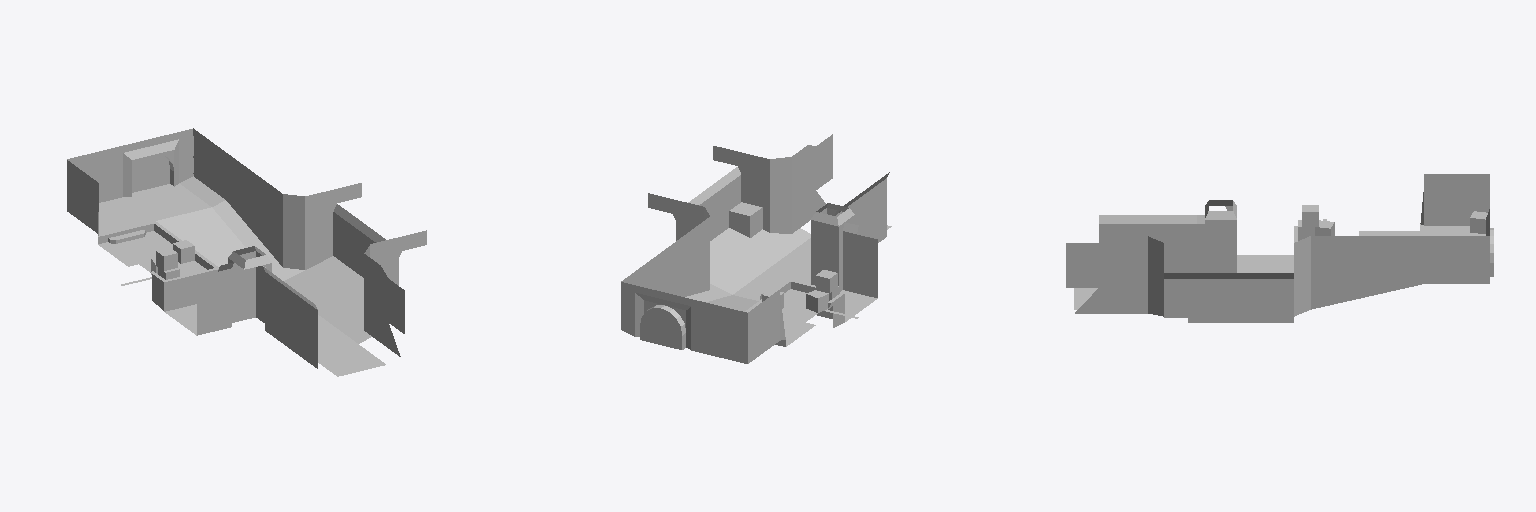
Rendered from de_dust2.obj.
3 renders of one model, left to right at view 1: azimuth 30°, elevation 25°; view 2: azimuth 150°, elevation 25°; view 3: azimuth 270°, elevation 25°, orthographic.
Visible parts, largest first — view 1: de_dust2; view 2: de_dust2; view 3: de_dust2.
Boxes of the visible parts, box(x1,y1,x2,y2) form: de_dust2: box(67, 128, 426, 376); de_dust2: box(621, 134, 891, 363); de_dust2: box(1066, 174, 1493, 322).
Bounding box in the file's own units: 10.02 × 3.44 × 16.44.